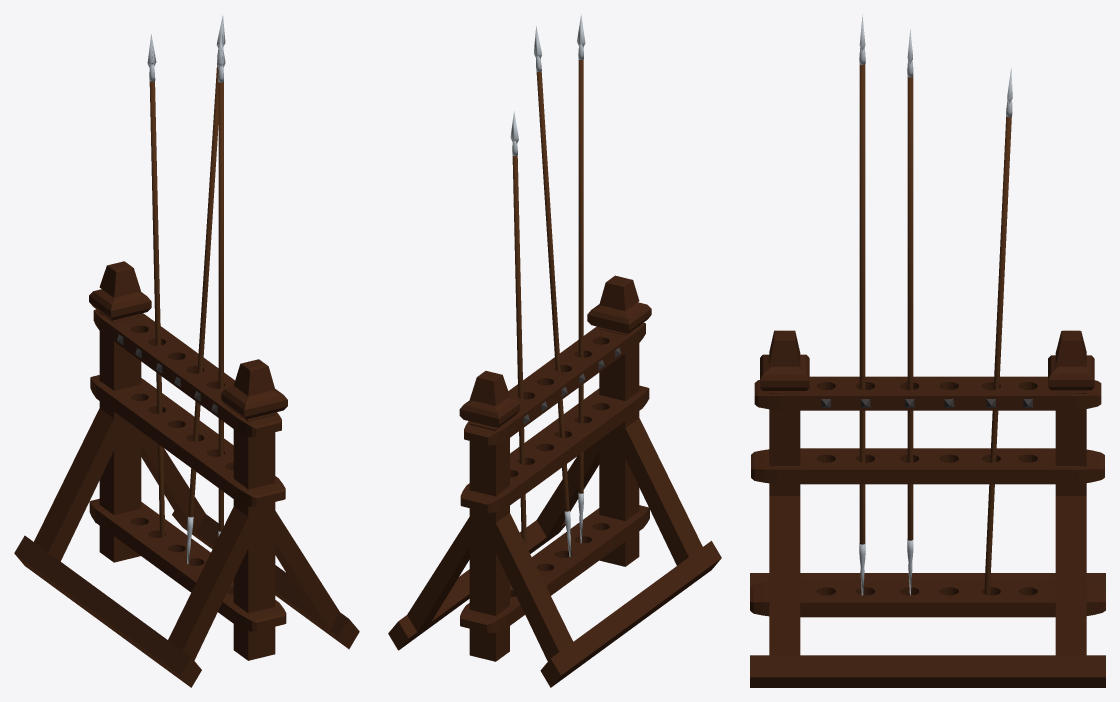
Rendered from Speer Ständer Ver 8.fbx.
3 renders of one model, left to right at view 1: azimuth 30°, elevation 25°; view 2: azimuth 150°, elevation 25°; view 3: azimuth 270°, elevation 25°, orthographic. The views are drawn at different scales.
Parts seen in each view (by area): view 1: Speer Ständer Ver 8; view 2: Speer Ständer Ver 8; view 3: Speer Ständer Ver 8.
Boxes of the visible parts, x1,y1,x2,y2 form: Speer Ständer Ver 8: (14, 15, 359, 687); Speer Ständer Ver 8: (388, 14, 721, 687); Speer Ständer Ver 8: (750, 14, 1105, 687).
Size of the model in its own units: 84.24 by 267 by 136.
